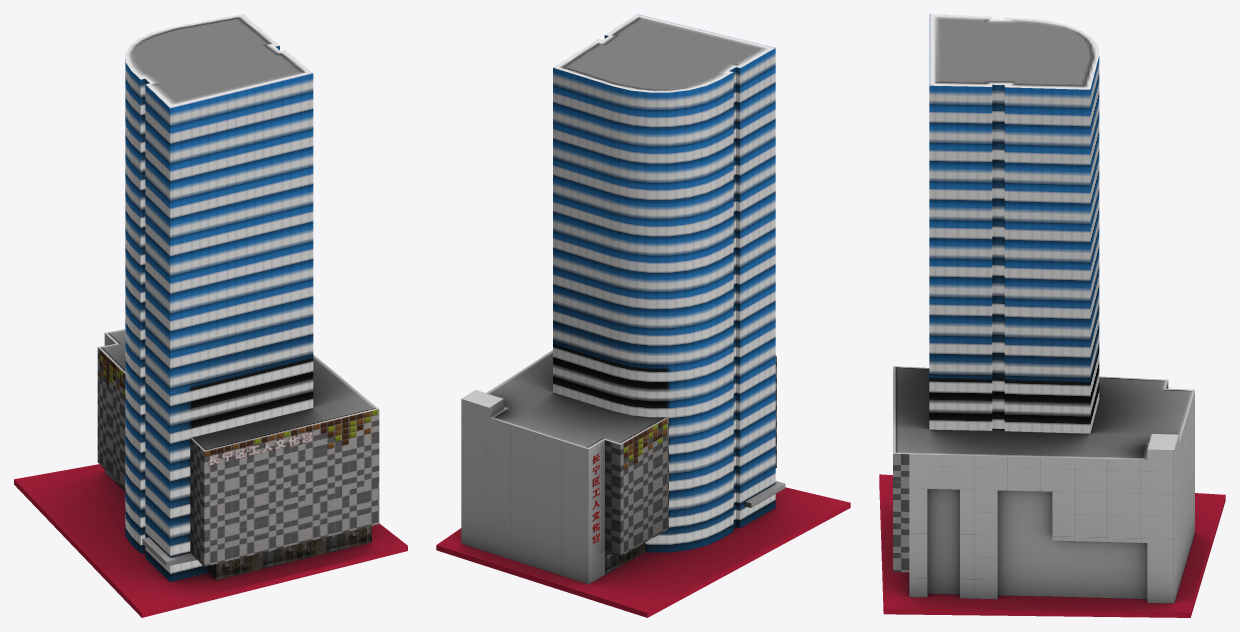
Rendered from cnqgr.gltf.
3 renders of one model, left to right at view 1: azimuth 30°, elevation 25°; view 2: azimuth 150°, elevation 25°; view 3: azimuth 270°, elevation 25°, orthographic. The views are drawn at different scales.
Visible parts, largest first — view 1: group1 pCube2, pCube1 group1, group1 pCube4, group1 pCube3; view 2: group1 pCube2, pCube1 group1, group1 pCube4; view 3: group1 pCube2, pCube1 group1, group1 pCube4.
Boxes of the visible parts, <box> form: group1 pCube2: <box>125,14,313,581</box>; pCube1 group1: <box>97,329,379,580</box>; group1 pCube4: <box>14,464,407,617</box>; group1 pCube3: <box>142,537,196,566</box>; group1 pCube2: <box>553,14,775,552</box>; pCube1 group1: <box>461,350,776,584</box>; group1 pCube4: <box>436,487,850,617</box>; group1 pCube2: <box>929,14,1099,433</box>; pCube1 group1: <box>893,366,1194,603</box>; group1 pCube4: <box>879,474,1225,617</box>.
Bounding box in the file's own units: 13.9 × 23.1 × 14.74.
Materials: 1 (1 with a texture image).
